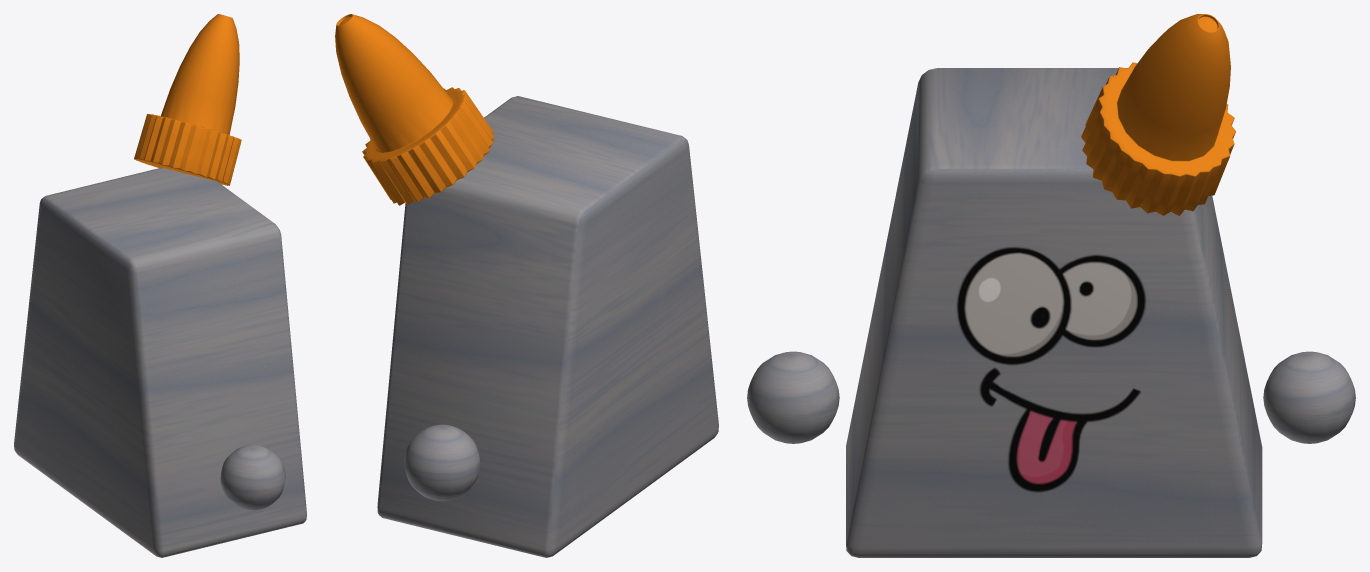
The model's file is gluemeeplesmoothfbx.fbx.
3 views of the same model, side by side, from view 1: azimuth 30°, elevation 25°; view 2: azimuth 150°, elevation 25°; view 3: azimuth 270°, elevation 25° (orthographic). The views are drawn at different scales.
Visible parts, largest first — view 1: glueguy, Sphere, gluehand; view 2: glueguy, Sphere, gluehand.001; view 3: glueguy, Sphere, gluehand, gluehand.001.
Boxes of the visible parts, box(x1,y1,x2,y2) form: glueguy: box(14, 167, 306, 557); Sphere: box(134, 14, 241, 185); gluehand: box(220, 445, 285, 510); glueguy: box(377, 96, 718, 557); Sphere: box(335, 14, 494, 205); gluehand.001: box(404, 424, 480, 500); glueguy: box(846, 68, 1262, 557); Sphere: box(1081, 14, 1235, 215); gluehand: box(747, 351, 839, 443); gluehand.001: box(1263, 351, 1355, 443).
Size of the model in its own units: 199 by 380 by 366.
